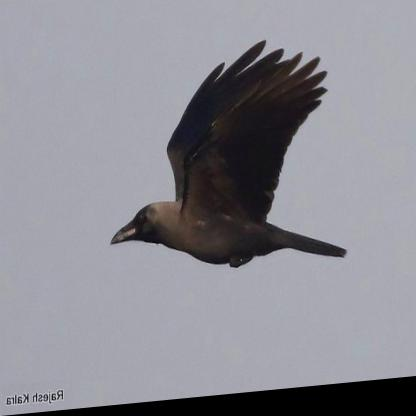Burung: (110, 39, 348, 282)
